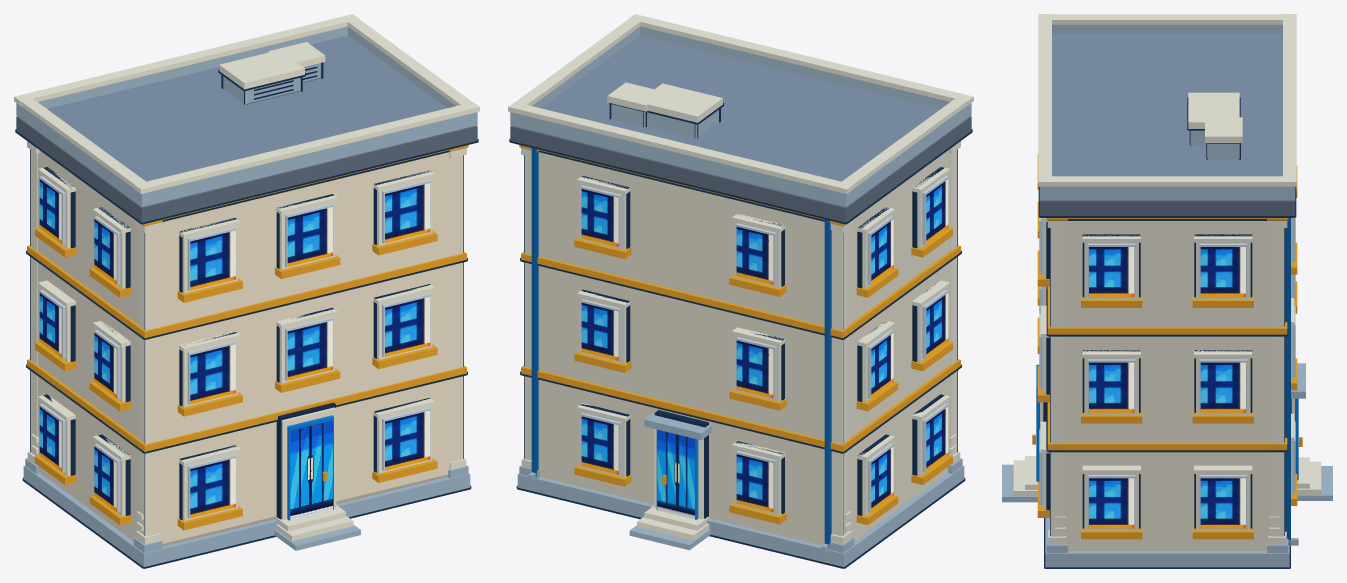
3 views of the same model, side by side, from view 1: azimuth 30°, elevation 25°; view 2: azimuth 150°, elevation 25°; view 3: azimuth 270°, elevation 25° (orthographic).
Visible parts, largest first — view 1: B06-01 规整窗格办公楼; view 2: B06-01 规整窗格办公楼; view 3: B06-01 规整窗格办公楼.
Part boxes in pixels (left/top/right/bottom): B06-01 规整窗格办公楼: left=14, top=14, right=479, bottom=568; B06-01 规整窗格办公楼: left=508, top=14, right=973, bottom=568; B06-01 规整窗格办公楼: left=1002, top=14, right=1332, bottom=568.
Bounding box in the file's own units: 7.92 × 8.75 × 6.58.
2 materials, 1 textured.
